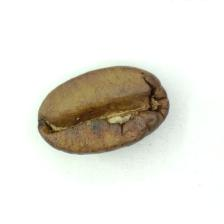NG: (44, 106, 165, 151)
